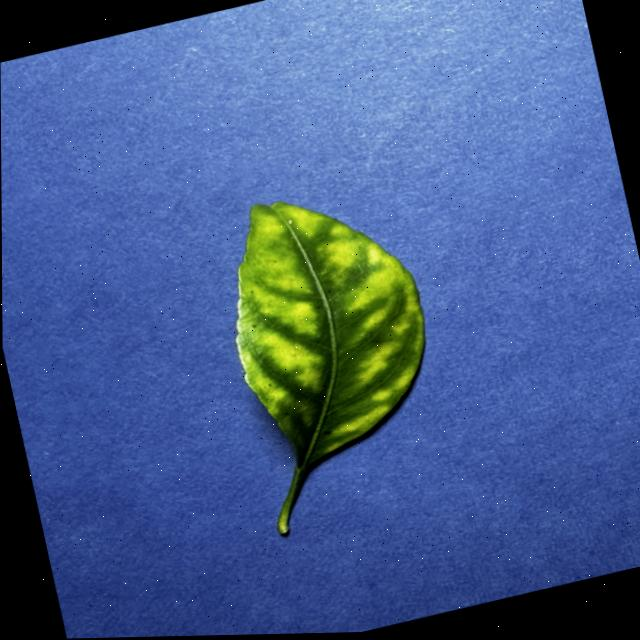greening: (235, 201, 423, 531)
